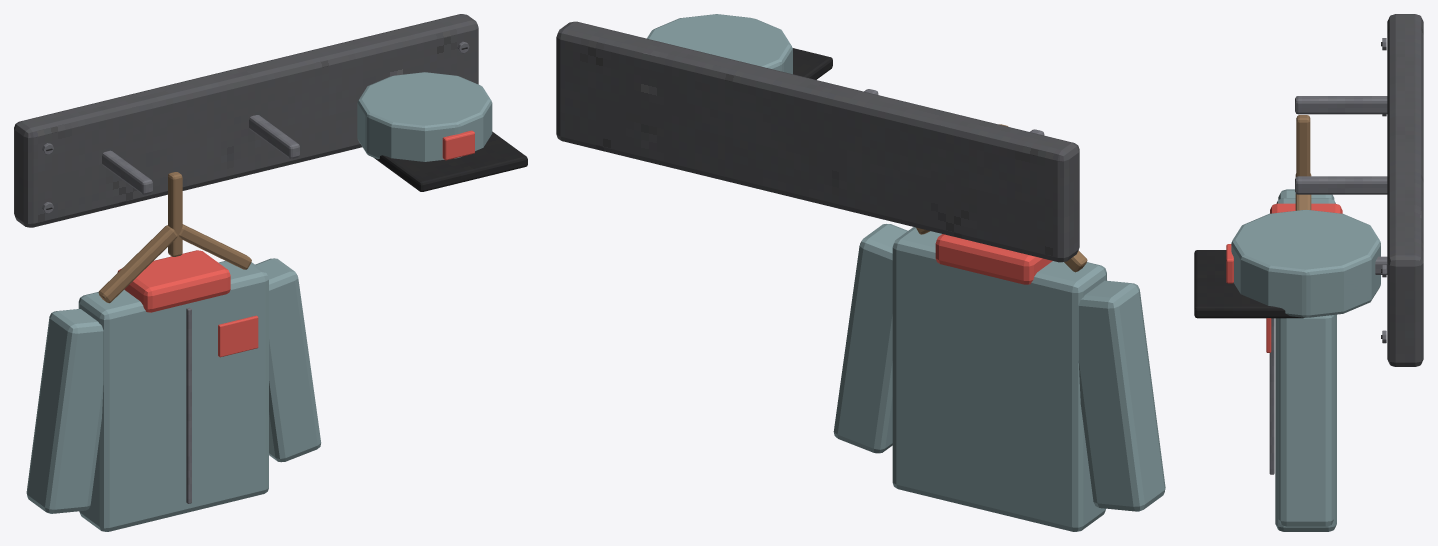
File: lbd_sec_uniform_rail.glb
3 views of the same model, side by side, from view 1: azimuth 30°, elevation 25°; view 2: azimuth 150°, elevation 25°; view 3: azimuth 270°, elevation 25° (orthographic). The views are drawn at different scales.
Parts seen in each view (by area): view 1: sec_uniform_rail__mount_003, sec_uniform_rail__coat torso_040, sec_uniform_rail__sleeve_043, sec_uniform_rail__cap crown_056, sec_uniform_rail__sleeve_046, sec_uniform_rail__collar_049, sec_uniform_rail__cap brim_059, sec_uniform_rail__hanger shoulder_034, sec_uniform_rail__patch_055, sec_uniform_rail__zip_052, sec_uniform_rail__hanger shoulder_037, sec_uniform_rail__hanger neck_031 (+3 smaller); view 2: sec_uniform_rail__mount_003, sec_uniform_rail__coat torso_040, sec_uniform_rail__sleeve_043, sec_uniform_rail__sleeve_046, sec_uniform_rail__cap crown_056, sec_uniform_rail__collar_049, sec_uniform_rail__cap brim_059; view 3: sec_uniform_rail__cap crown_056, sec_uniform_rail__mount_003, sec_uniform_rail__sleeve_046, sec_uniform_rail__cap brim_059, sec_uniform_rail__coat torso_040, sec_uniform_rail__hook_025, sec_uniform_rail__hook_022, sec_uniform_rail__hanger neck_031, sec_uniform_rail__zip_052, sec_uniform_rail__collar_049, sec_uniform_rail__cap badge_062.
Boxes of the visible parts, x1,y1,x2,y2 form: sec_uniform_rail__mount_003: (14, 14, 478, 227); sec_uniform_rail__coat torso_040: (78, 261, 268, 531); sec_uniform_rail__sleeve_043: (26, 309, 103, 513); sec_uniform_rail__cap crown_056: (357, 72, 492, 161); sec_uniform_rail__sleeve_046: (255, 258, 321, 462); sec_uniform_rail__collar_049: (117, 250, 230, 312); sec_uniform_rail__cap brim_059: (374, 131, 527, 191); sec_uniform_rail__hanger shoulder_034: (98, 225, 177, 303); sec_uniform_rail__patch_055: (218, 315, 258, 357); sec_uniform_rail__zip_052: (186, 307, 191, 503); sec_uniform_rail__hanger shoulder_037: (179, 224, 251, 269); sec_uniform_rail__hanger neck_031: (168, 172, 182, 256); sec_uniform_rail__mount_003: (556, 21, 1079, 262); sec_uniform_rail__coat torso_040: (892, 227, 1106, 531); sec_uniform_rail__sleeve_043: (1078, 280, 1165, 511); sec_uniform_rail__sleeve_046: (833, 224, 907, 453); sec_uniform_rail__cap crown_056: (647, 14, 792, 74); sec_uniform_rail__collar_049: (935, 234, 1052, 284); sec_uniform_rail__cap brim_059: (793, 48, 832, 79); sec_uniform_rail__cap crown_056: (1231, 209, 1380, 317); sec_uniform_rail__mount_003: (1387, 14, 1423, 366); sec_uniform_rail__sleeve_046: (1278, 315, 1334, 527); sec_uniform_rail__cap brim_059: (1194, 250, 1304, 318); sec_uniform_rail__coat torso_040: (1275, 198, 1336, 531); sec_uniform_rail__hook_025: (1295, 176, 1387, 194); sec_uniform_rail__hook_022: (1295, 96, 1387, 114); sec_uniform_rail__hanger neck_031: (1296, 115, 1310, 176); sec_uniform_rail__zip_052: (1269, 318, 1274, 474); sec_uniform_rail__collar_049: (1270, 203, 1342, 213); sec_uniform_rail__cap badge_062: (1226, 244, 1233, 283).
Bounding box in the file's own units: 1.11 × 0.825 × 0.41.
6 materials, 3 textured.
